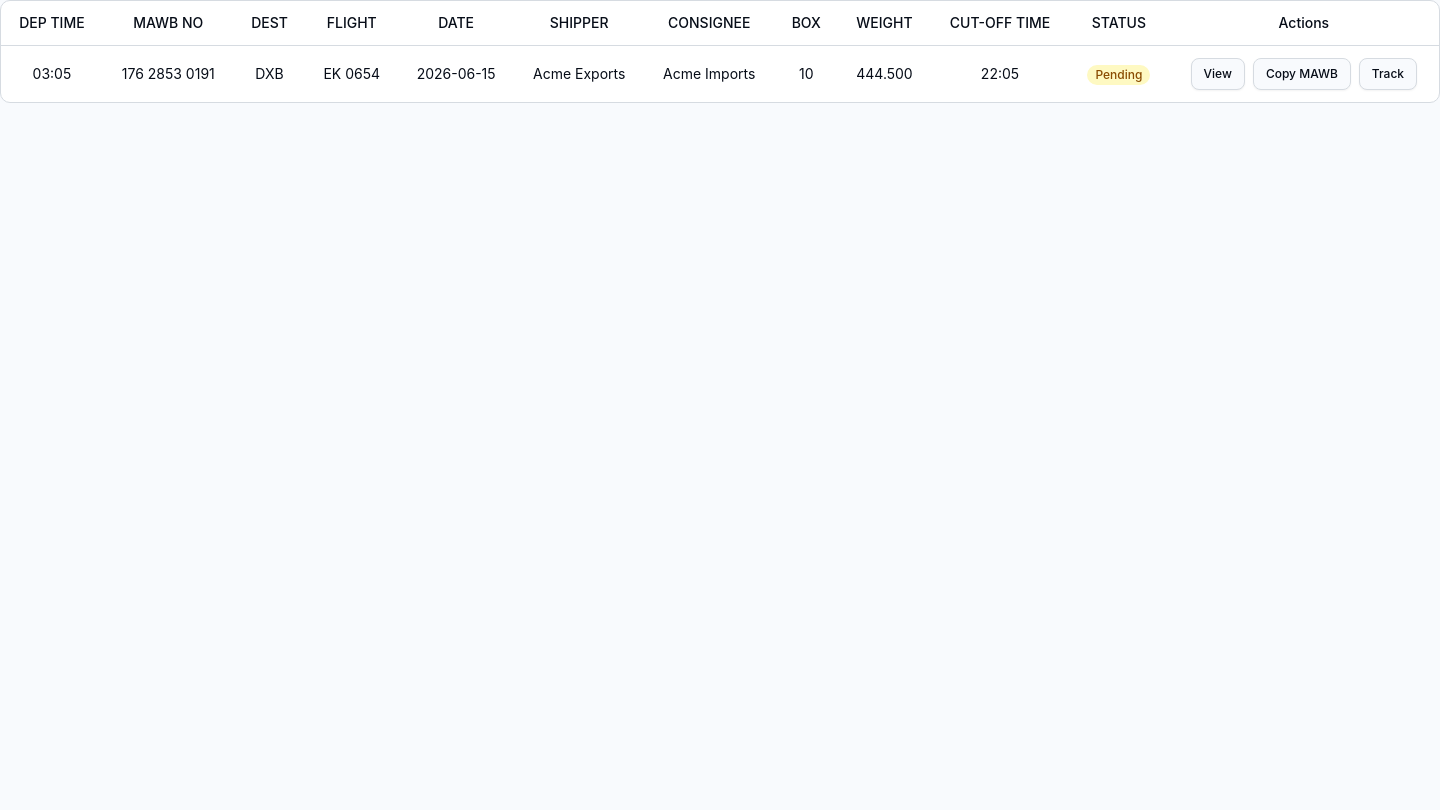
ScheduleGrid › AC-07: Copy MAWB writes to the clipboard and shows a confirmation toast
The width and height of the screenshot is (1440, 810).
Click the button "Copy MAWB" at (1302, 74), box [1253, 58, 1351, 90]
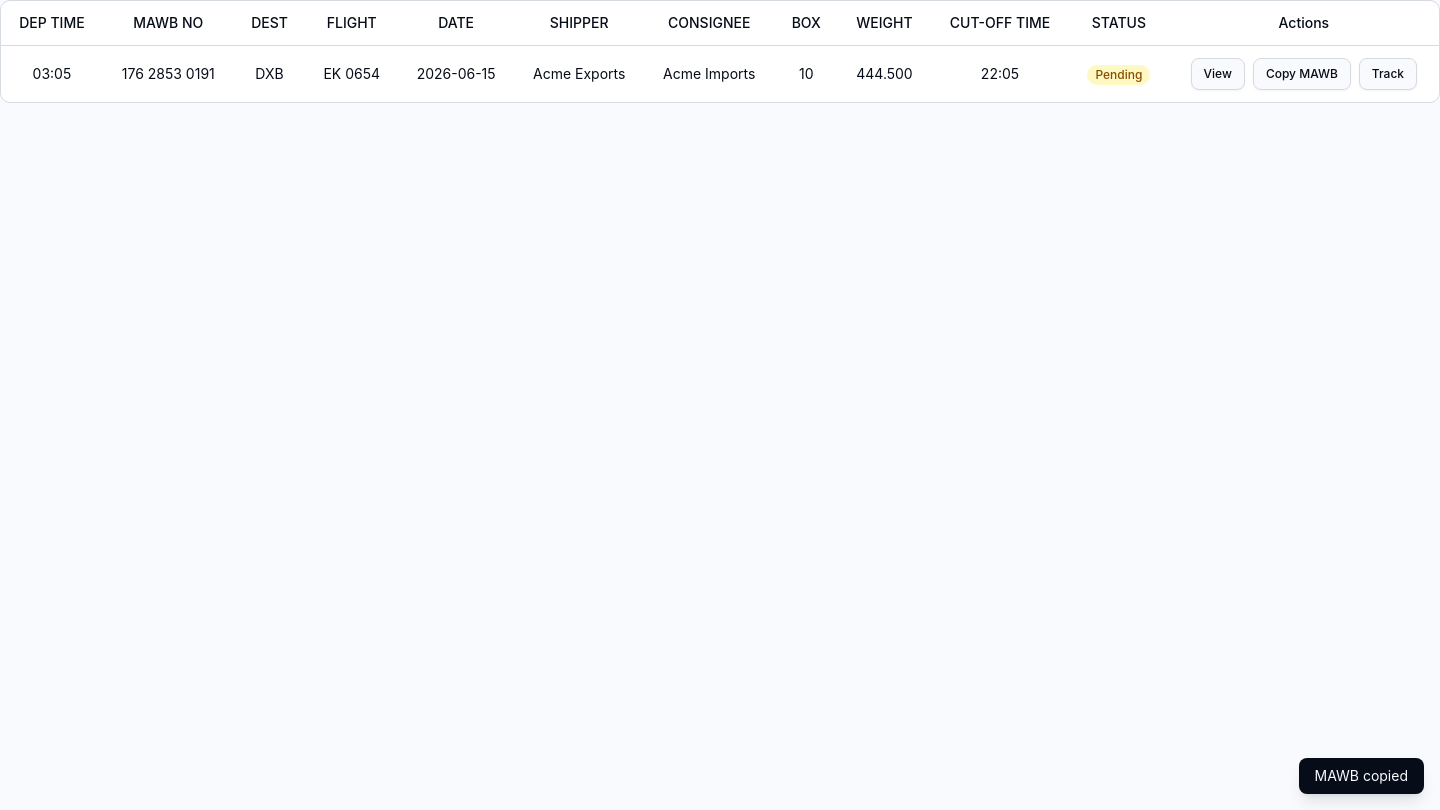
expect the text "MAWB copied" is shown: met, box [1298, 758, 1424, 794]
